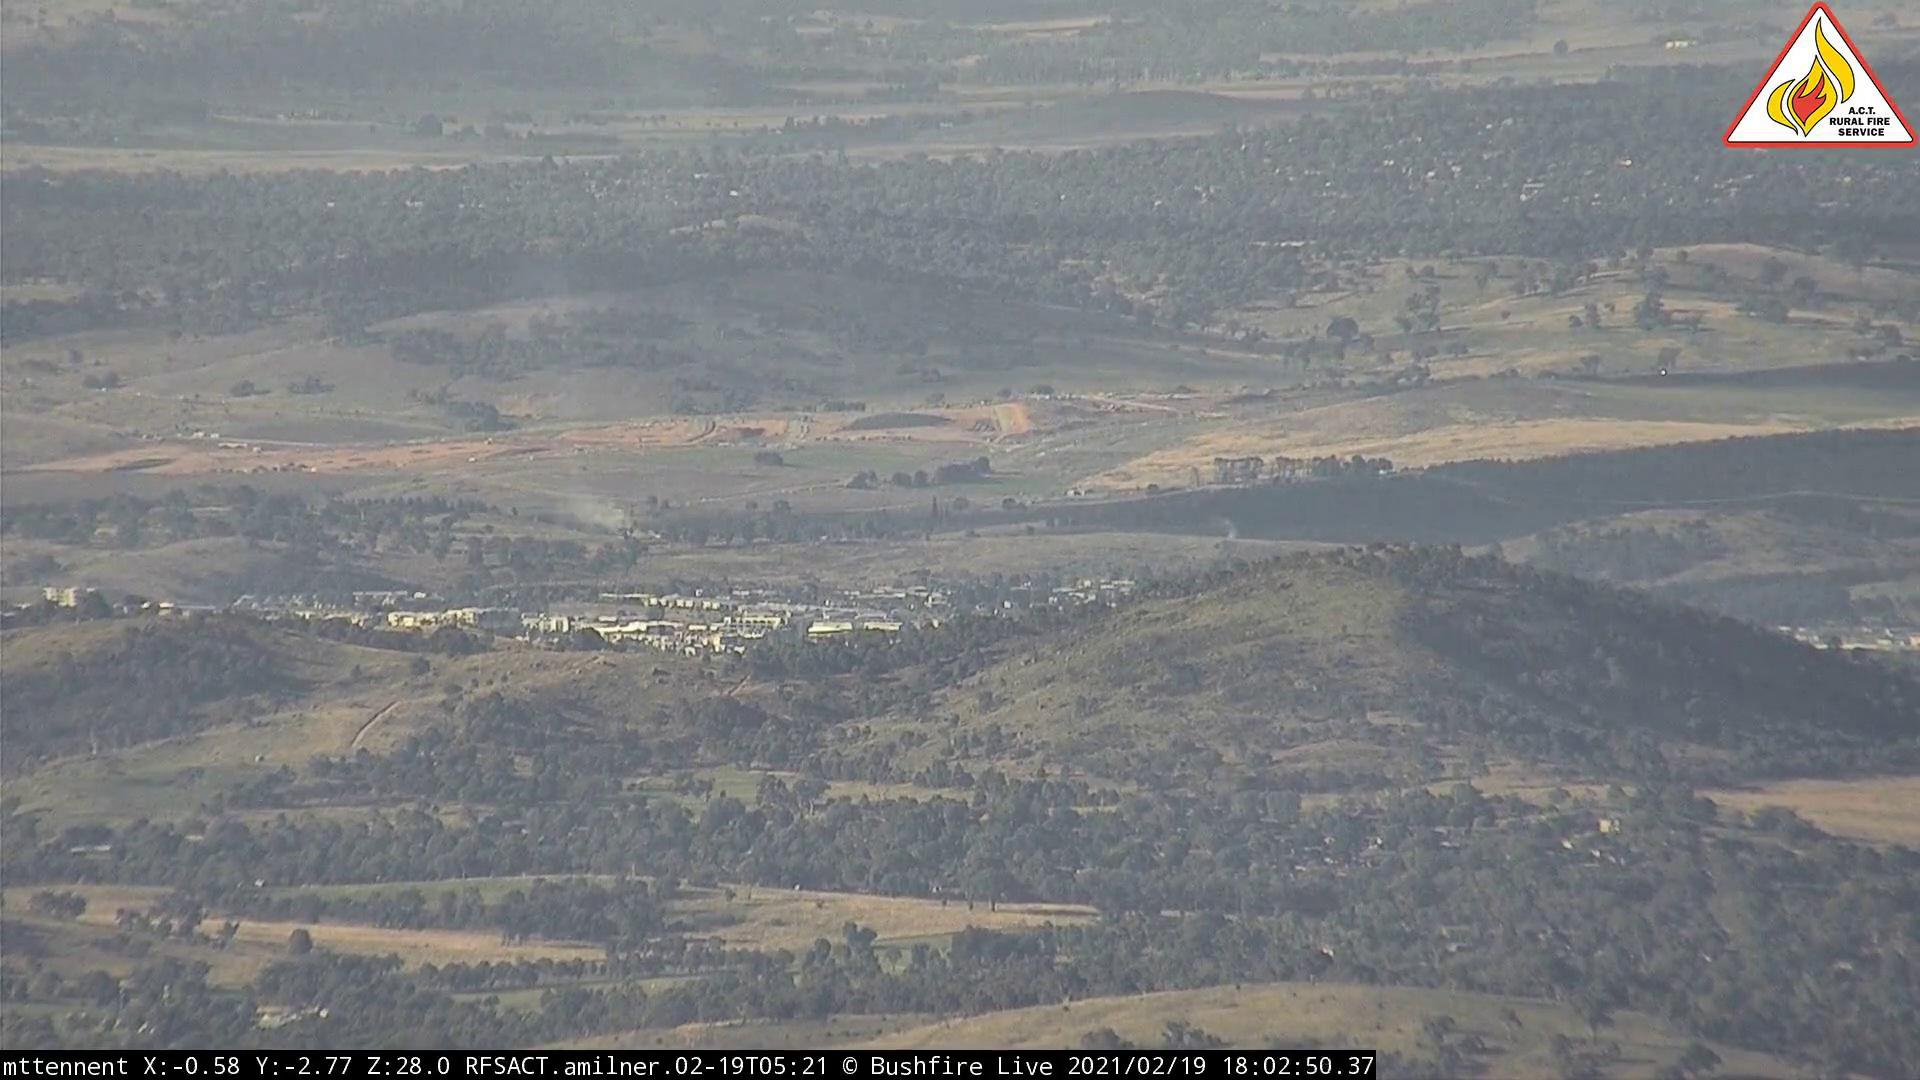Smoke: (542, 465, 676, 545)
